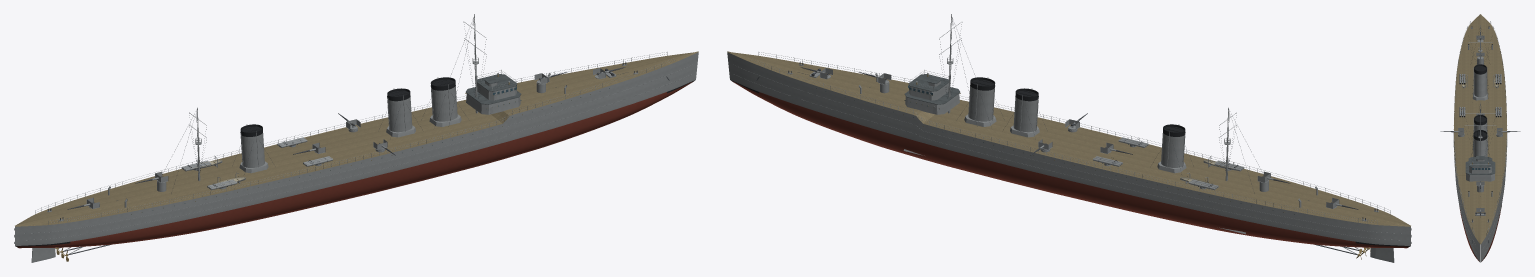
File: emerald.glb
3 renders of one model, left to right at view 1: azimuth 30°, elevation 25°; view 2: azimuth 150°, elevation 25°; view 3: azimuth 270°, elevation 25°, orthographic. The views are drawn at different scales.
Parts seen in each view (by area): view 1: Emerald (E) class; view 2: Emerald (E) class; view 3: Emerald (E) class.
Boxes of the visible parts, <box> form: Emerald (E) class: <box>14,14,698,262</box>; Emerald (E) class: <box>727,14,1411,262</box>; Emerald (E) class: <box>1440,14,1520,262</box>.
Size of the model in its own units: 174 by 34.6 by 25.09.
9 materials, 8 textured.
